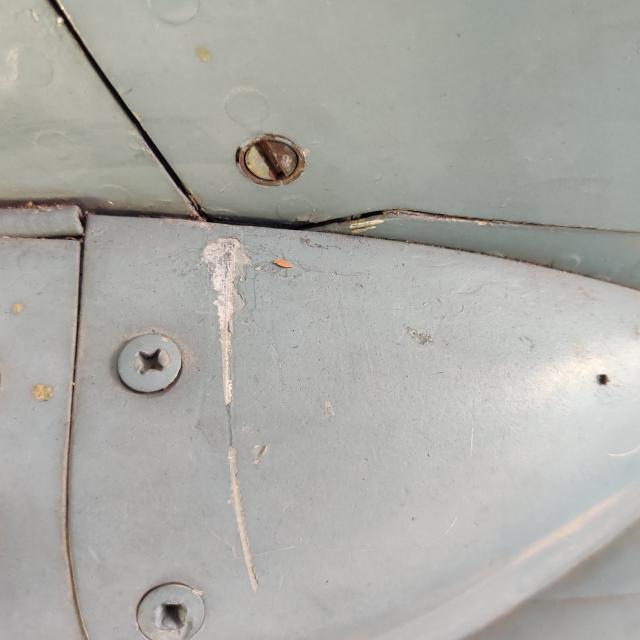scratch: (169, 224, 288, 606)
